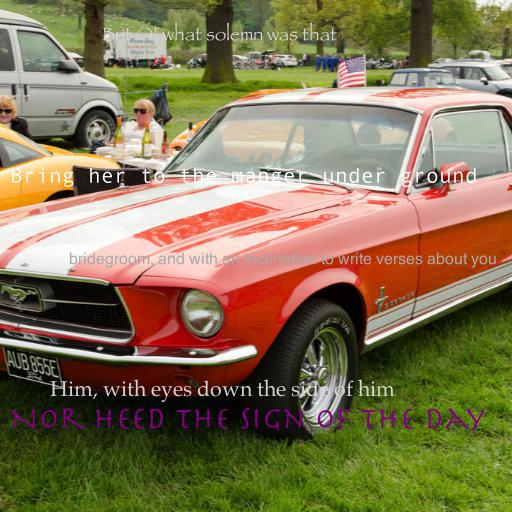Andale Mono: (10, 167, 478, 188)
Herculanum: (9, 408, 485, 431)
Impact: (69, 252, 497, 268)
Palatino: (49, 379, 395, 402)
Papyrus: (101, 22, 337, 41)
